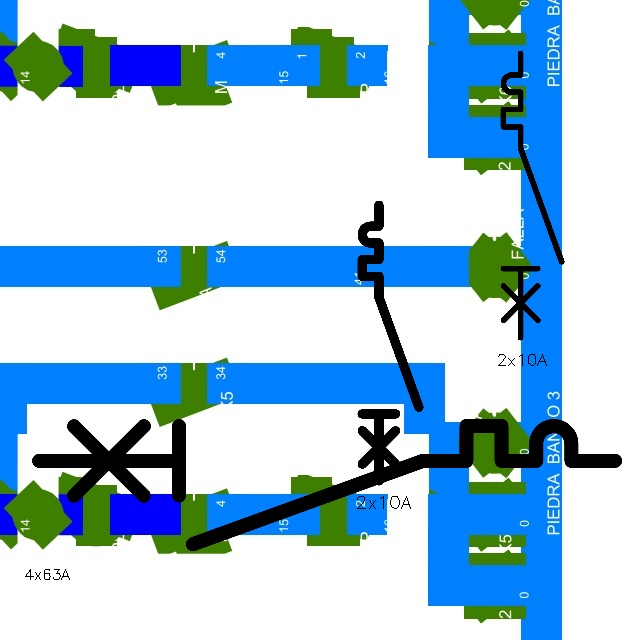interruptor_termomagnetico: (24, 411, 630, 559), (496, 46, 569, 345), (355, 198, 426, 488)
